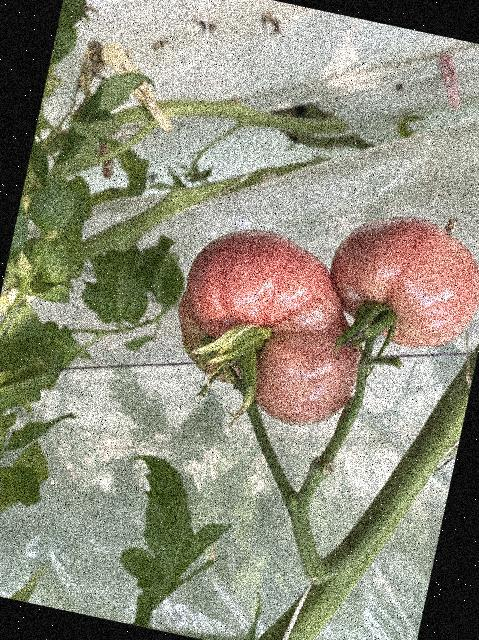b_half_ripened: (159, 215, 381, 435), (317, 201, 479, 360)
